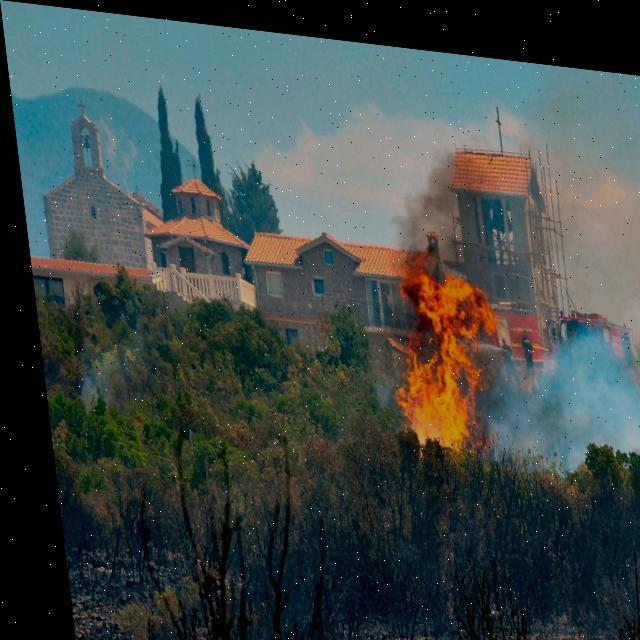Fire: (370, 258, 500, 448), (631, 345, 639, 365)
